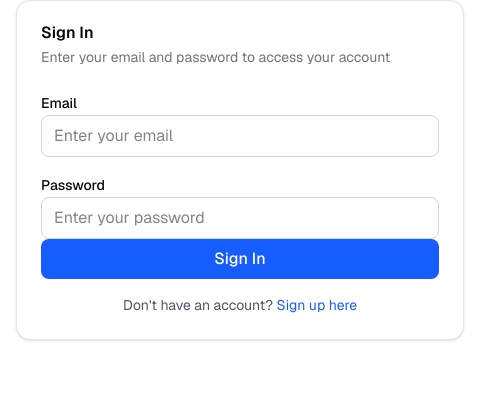
Test: Authentication Tests › LoginForm Component › displays error notification for network failure
In the field labelled "Email": (240, 136) [41, 115, 439, 157], type "test@example.com"
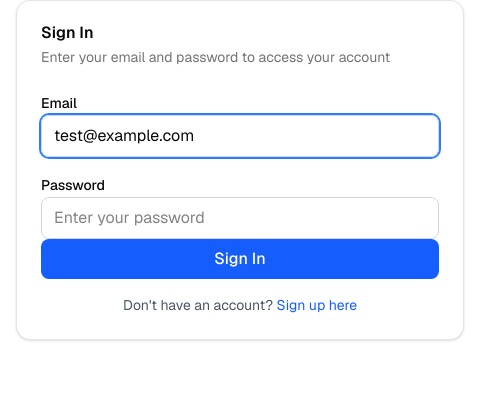
In the password field labelled "Password": (240, 218) [41, 197, 439, 239], type "password123"
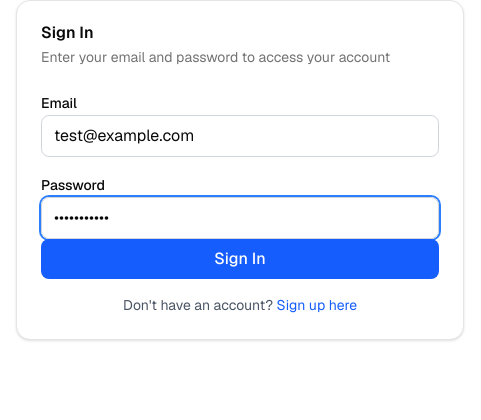
Click the button "Sign In": (240, 259) [41, 239, 439, 279]
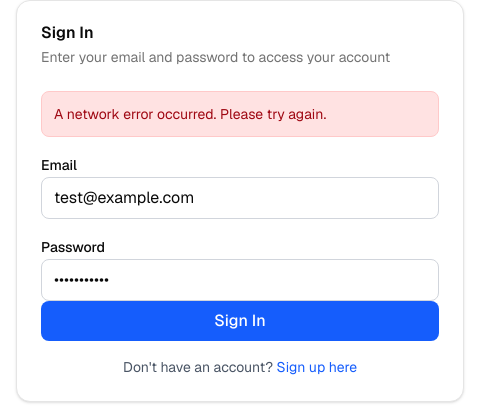
Expected: the text "A network error occurred. Please try again." is shown, [41, 91, 439, 137]
